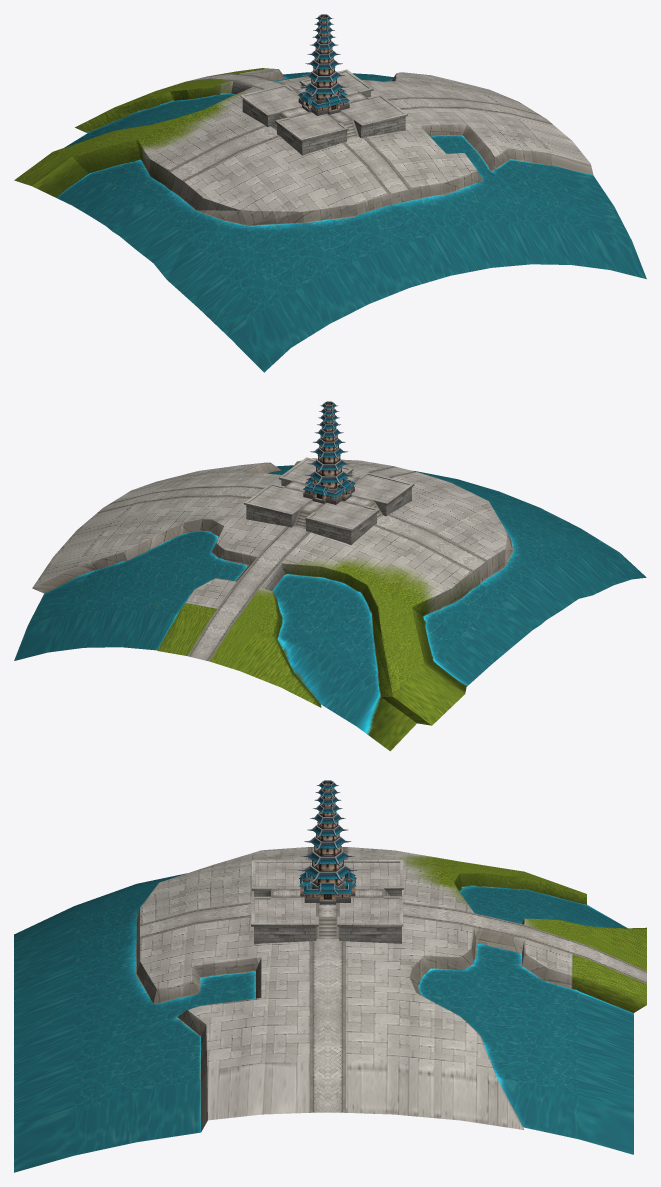
The model's file is QSMY_City_DX.FBX.
3 renders of one model, top to bottom at view 1: azimuth 30°, elevation 25°; view 2: azimuth 150°, elevation 25°; view 3: azimuth 270°, elevation 25°, orthographic. The views are drawn at different scales.
Parts seen in each view (by area): view 1: Object33, Sphere01, Object32, Object26, Box03, Object30, Box02; view 2: Object32, Object30, Object33, Box03, Object26, Sphere01, Box02; view 3: Sphere01, Object30, Object33, Object32, Box03, Object26, Box02.
Part boxes in pixels (bbox=[...]): Object33: bbox=[112, 136, 450, 372]; Sphere01: bbox=[366, 108, 646, 279]; Object32: bbox=[14, 79, 264, 231]; Object26: bbox=[240, 69, 407, 155]; Box03: bbox=[168, 73, 552, 194]; Object30: bbox=[209, 68, 537, 113]; Box02: bbox=[298, 14, 349, 115]; Object32: bbox=[209, 526, 539, 751]; Object30: bbox=[14, 496, 285, 660]; Object33: bbox=[390, 472, 646, 624]; Box03: bbox=[96, 466, 486, 661]; Object26: bbox=[244, 457, 414, 545]; Sphere01: bbox=[111, 458, 455, 502]; Box02: bbox=[303, 401, 355, 504]; Sphere01: bbox=[14, 917, 309, 1172]; Object30: bbox=[346, 917, 646, 1154]; Object33: bbox=[14, 847, 307, 989]; Object32: bbox=[347, 847, 646, 970]; Box03: bbox=[140, 847, 646, 1112]; Object26: bbox=[251, 860, 403, 944]; Box02: bbox=[296, 780, 358, 904].
Bounding box in the file's own units: 338 × 162 × 342.
